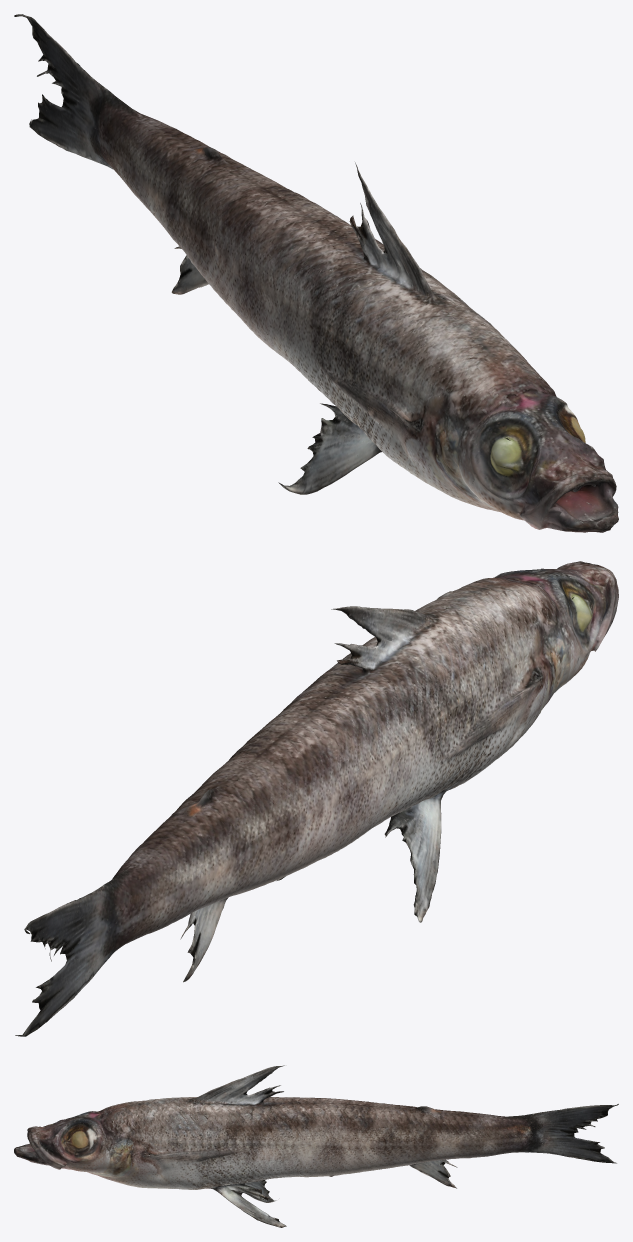
The model's file is greeneye.glb.
The picture shows the model from 3 angles, top to bottom: view 1: azimuth 30°, elevation 25°; view 2: azimuth 150°, elevation 25°; view 3: azimuth 270°, elevation 25°; orthographic projection. The views are drawn at different scales.
Parts seen in each view (by area): view 1: greeneye; view 2: greeneye; view 3: greeneye.
Part boxes in pixels (box(x1,y1,x2,y2)): greeneye: box(14, 14, 618, 532); greeneye: box(15, 561, 618, 1036); greeneye: box(14, 1065, 618, 1227).
Bounding box in the file's own units: 0.0245 × 0.0514 × 0.18.
1 material, 1 textured.
